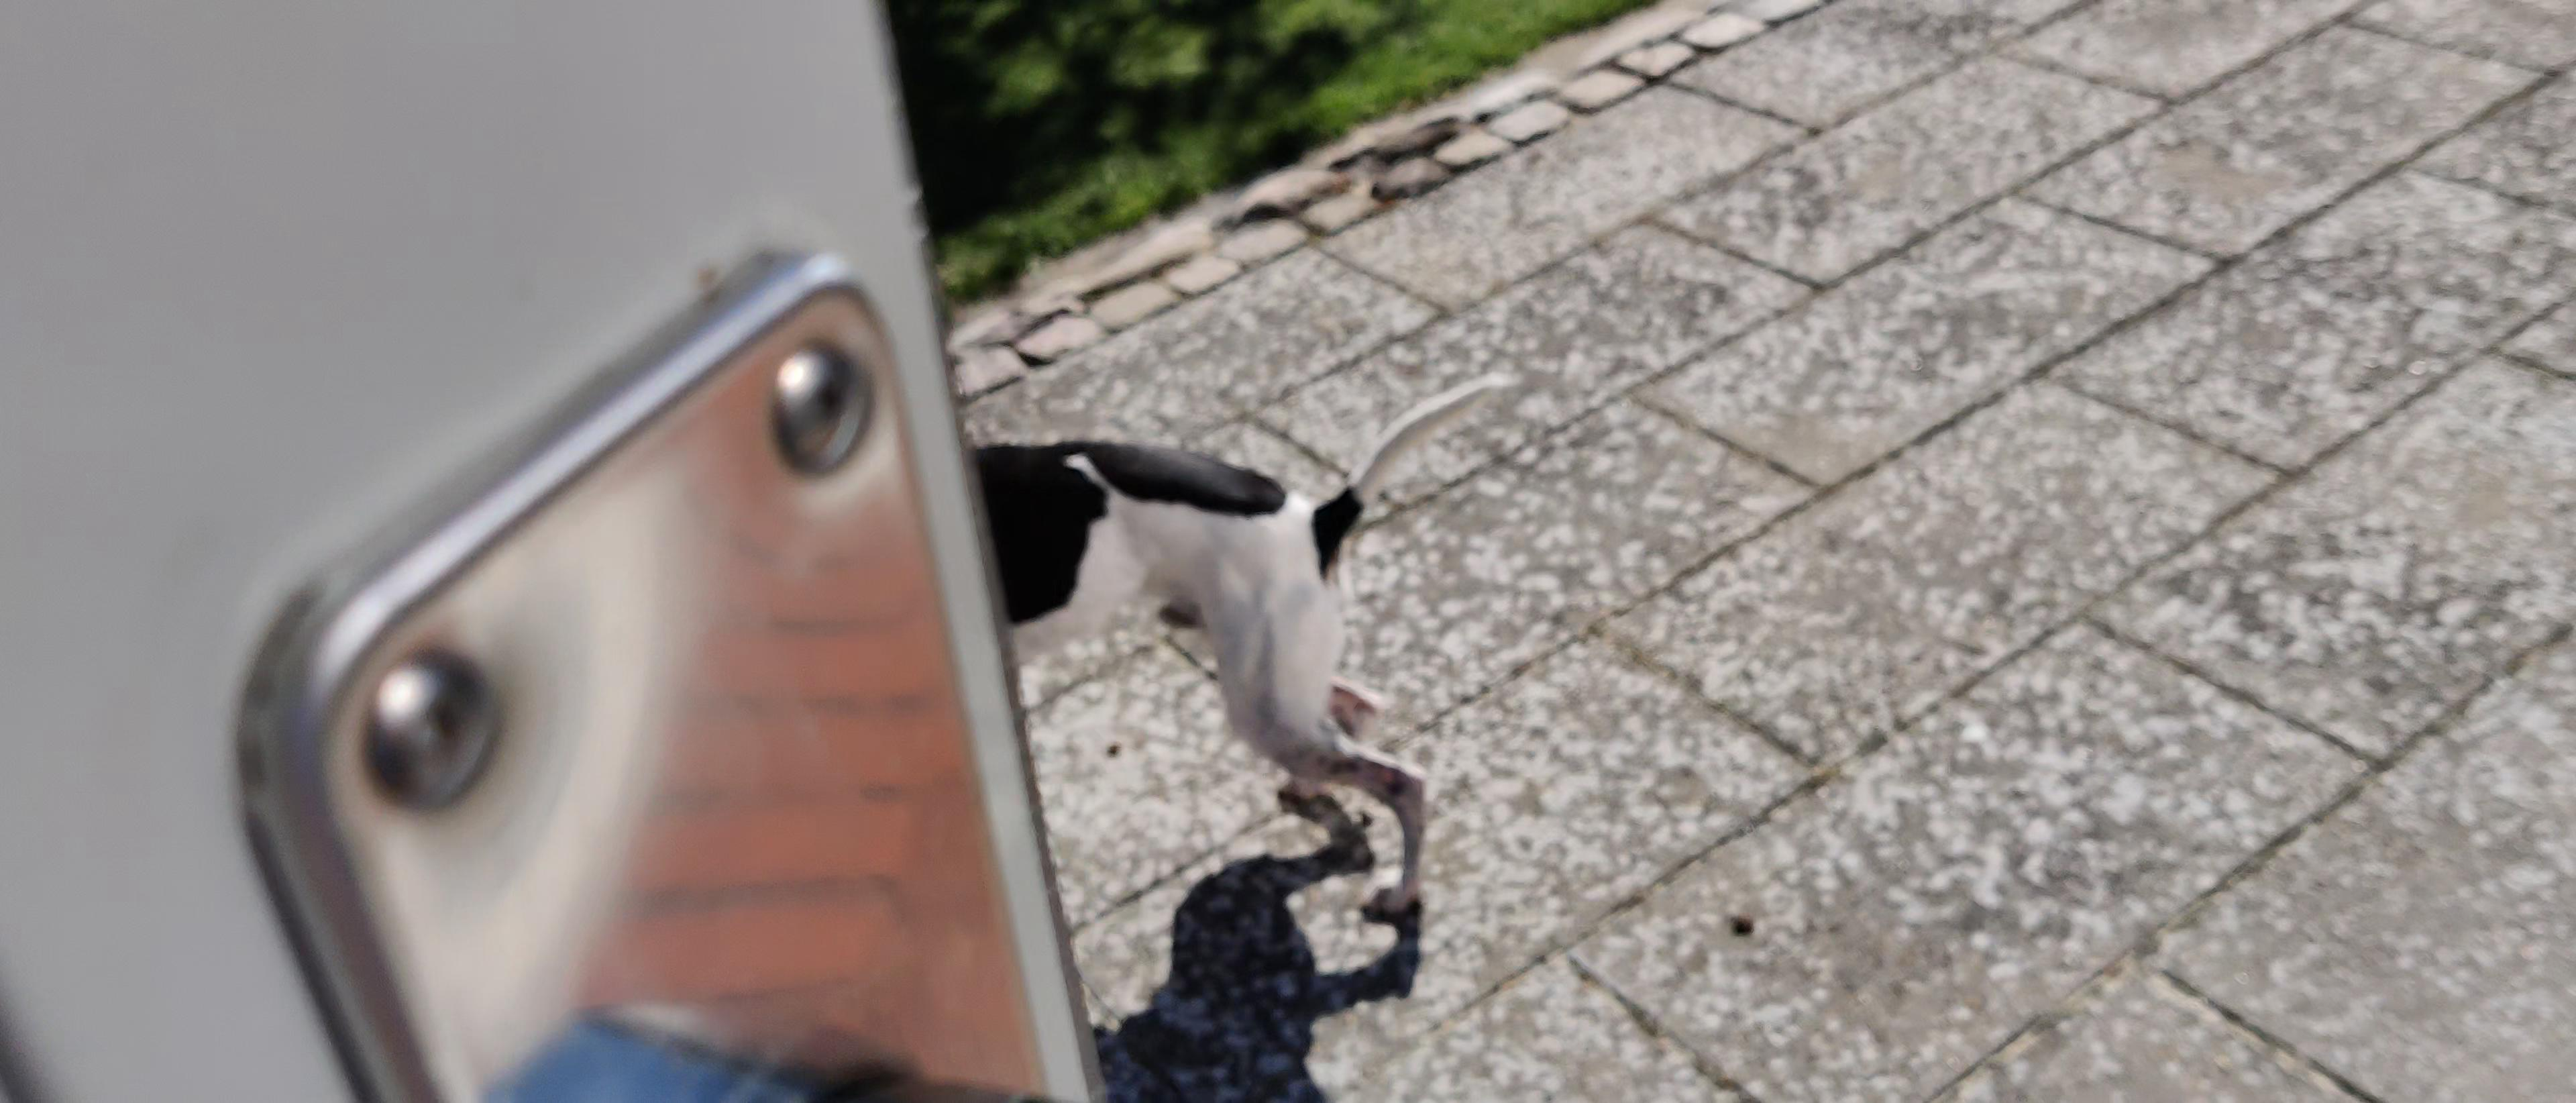Dog: (913, 367, 1529, 930)
